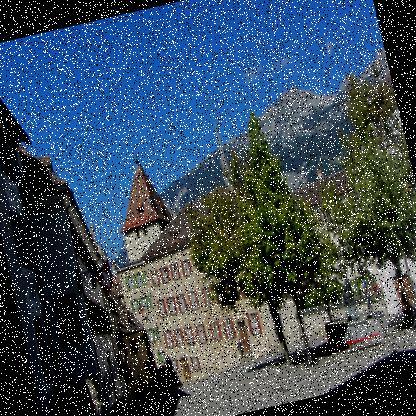Car: (41, 371, 114, 415)
